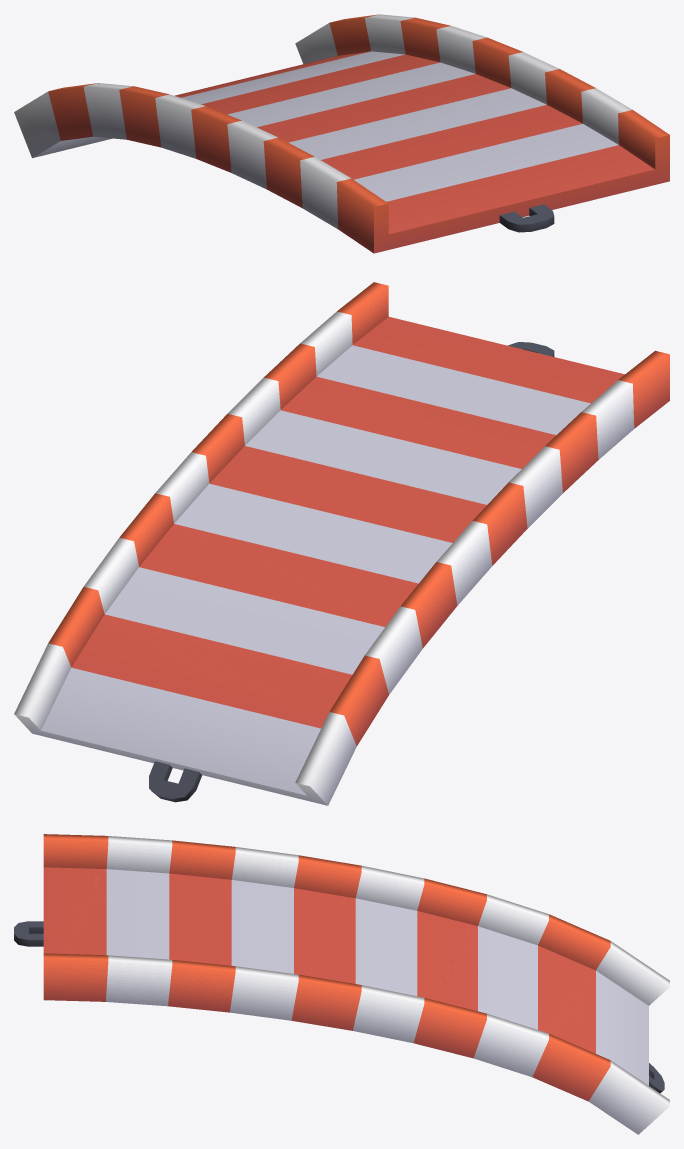
Rendered from track-striped-wide-straight-hill-end.glb.
3 renders of one model, top to bottom at view 1: azimuth 30°, elevation 25°; view 2: azimuth 150°, elevation 25°; view 3: azimuth 270°, elevation 25°, orthographic. The views are drawn at different scales.
Parts seen in each view (by area): view 1: track-striped-wide-straight-hill-end; view 2: track-striped-wide-straight-hill-end; view 3: track-striped-wide-straight-hill-end.
Boxes of the visible parts, box(x1,y1,x2,y2) form: track-striped-wide-straight-hill-end: box(14, 14, 669, 253); track-striped-wide-straight-hill-end: box(14, 282, 669, 805); track-striped-wide-straight-hill-end: box(14, 834, 669, 1134).
Size of the model in its own units: 6 by 4.32 by 13.24.
1 material, 1 textured.
